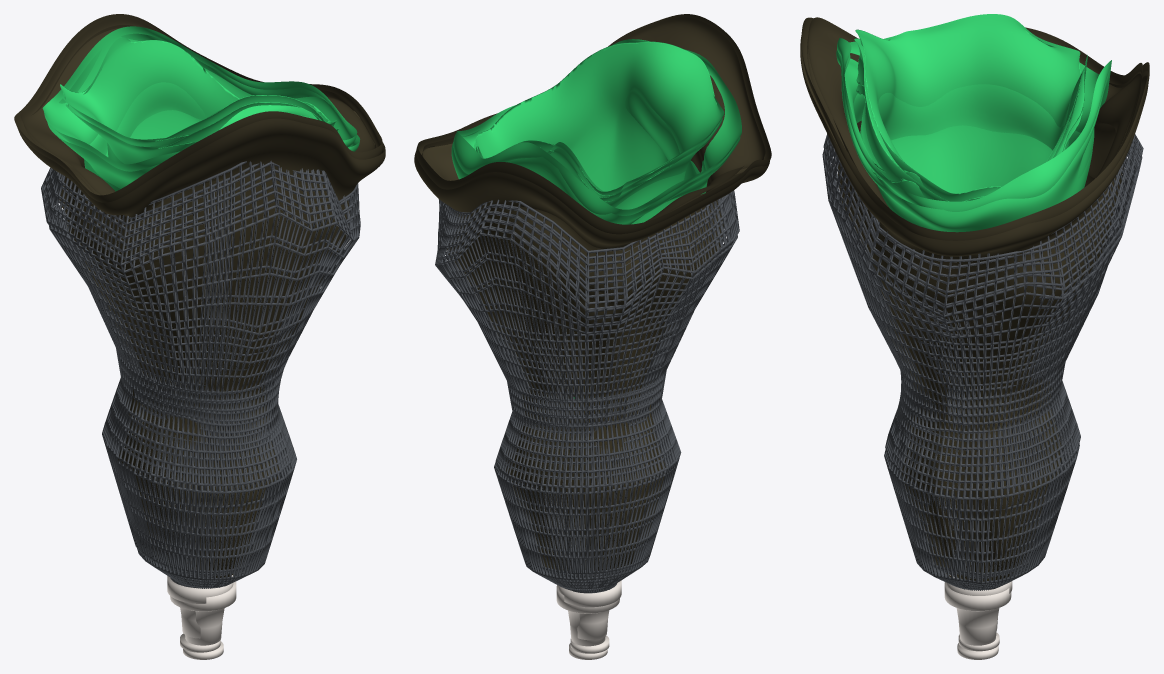
Rendered from socketthree.glb.
3 views of the same model, side by side, from view 1: azimuth 30°, elevation 25°; view 2: azimuth 150°, elevation 25°; view 3: azimuth 270°, elevation 25° (orthographic). The views are drawn at different scales.
Parts seen in each view (by area): view 1: Cylinder.001, Cylinder.002; view 2: Cylinder.002, Cylinder.001; view 3: Cylinder.001, Cylinder.002.
Boxes of the visible parts, x1=… form: Cylinder.001: x1=17, y1=25, x2=385, y2=659; Cylinder.002: x1=14, y1=14, x2=382, y2=652; Cylinder.002: x1=416, y1=14, x2=771, y2=653; Cylinder.001: x1=414, y1=68, x2=769, y2=659; Cylinder.001: x1=800, y1=35, x2=1148, y2=659; Cylinder.002: x1=801, y1=14, x2=1149, y2=651.
Bounding box in the file's own units: 0.3068 × 0.5388 × 0.2789.
